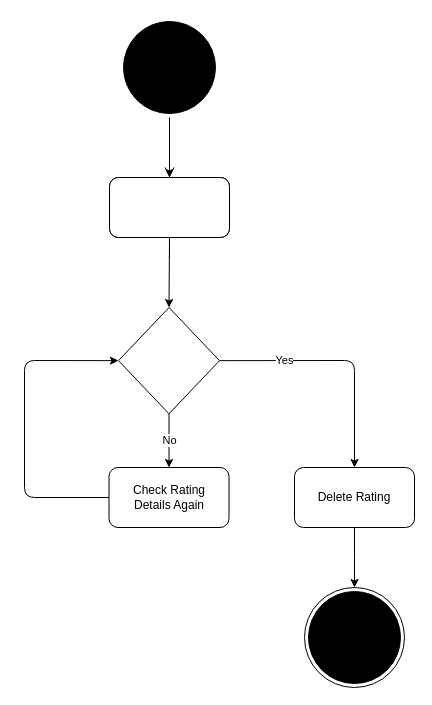
Image size: 432x705. Some labels were removed from this diagram. The box of each missing label's shape, as (x1, y1, x2, y2) in pixels:
Does Rating Exist?: (118, 306, 220, 414)
Rating To Be Deleted: (108, 176, 230, 238)
